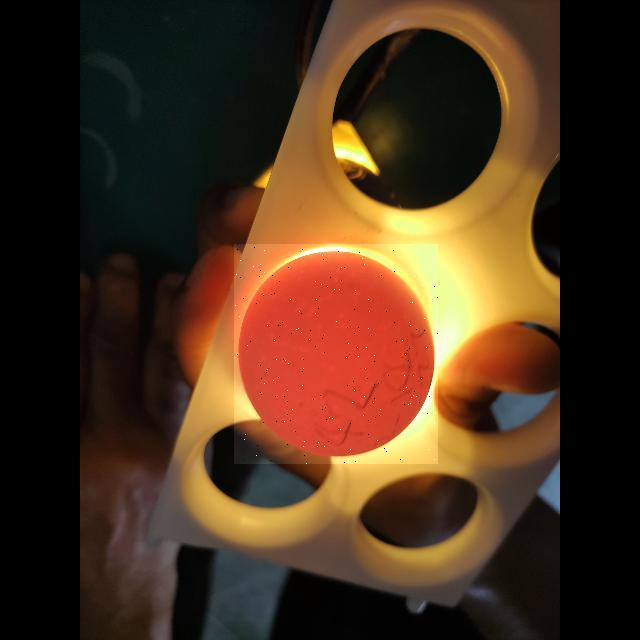Infertile: (234, 244, 438, 464)
